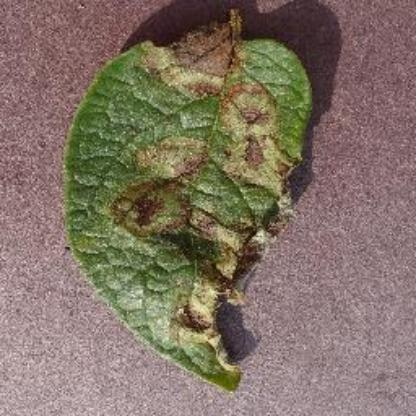Late-Blight: (34, 6, 342, 398)
